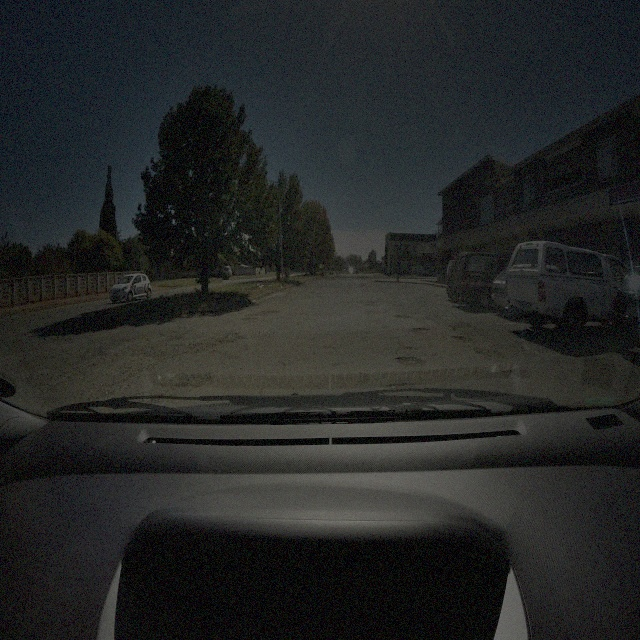pothole: (395, 352, 426, 368), (473, 346, 503, 361), (248, 308, 280, 321), (451, 333, 472, 345), (408, 326, 428, 336), (394, 313, 410, 320)
